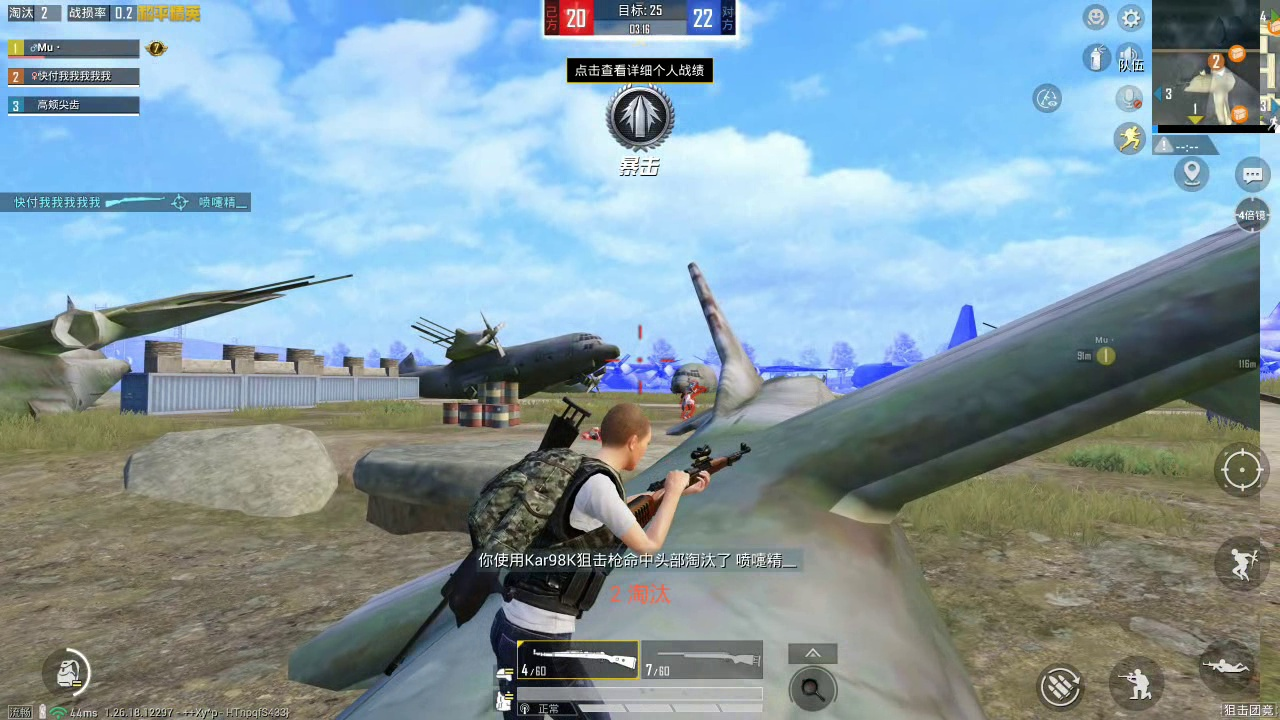enemy: (678, 377, 702, 415)
